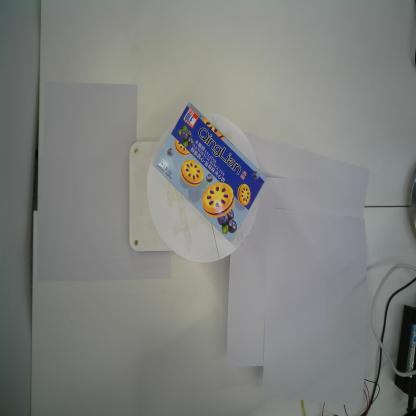Dessert: (153, 102, 267, 244)
